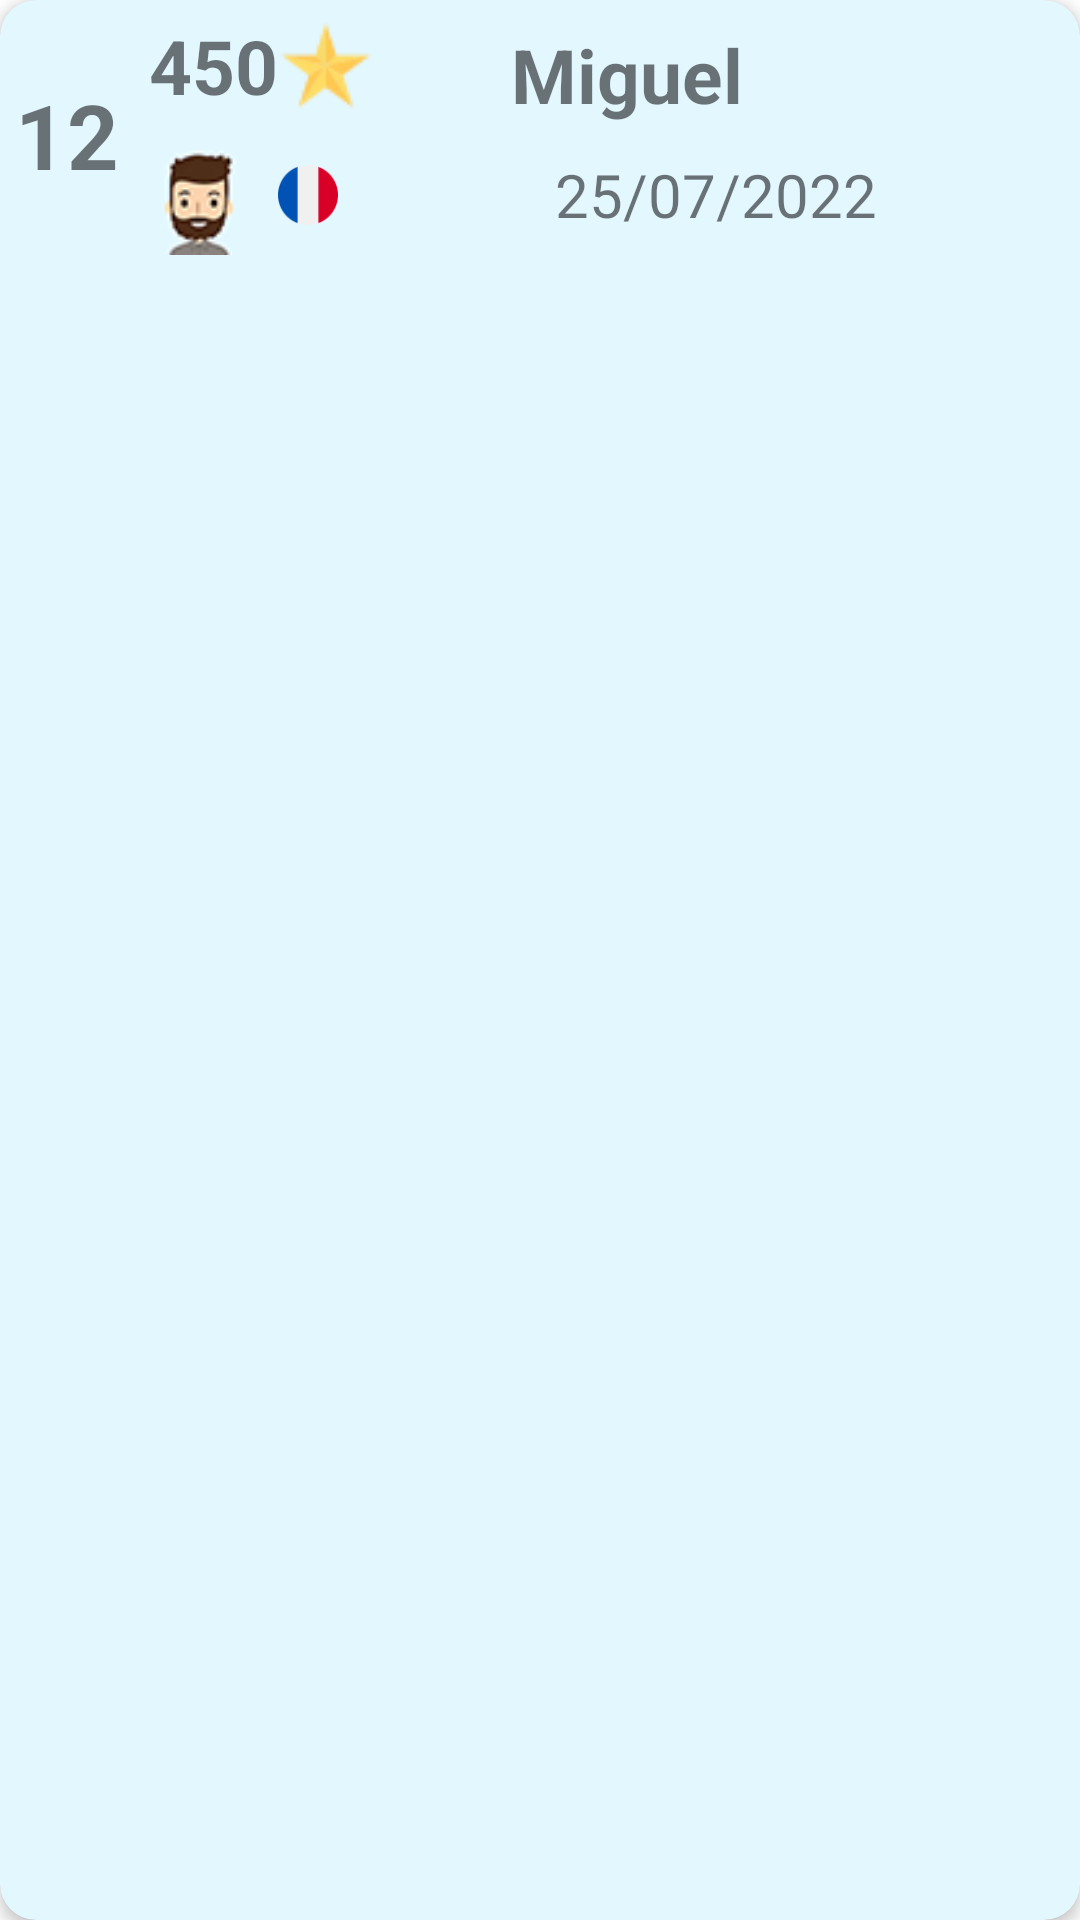

Locate icon controls on the screen. Image size 1080 × 1920, boxes as detection(x1, y1, x2, y2).
man: detection(164, 153, 234, 255)
score: detection(282, 24, 369, 108)
